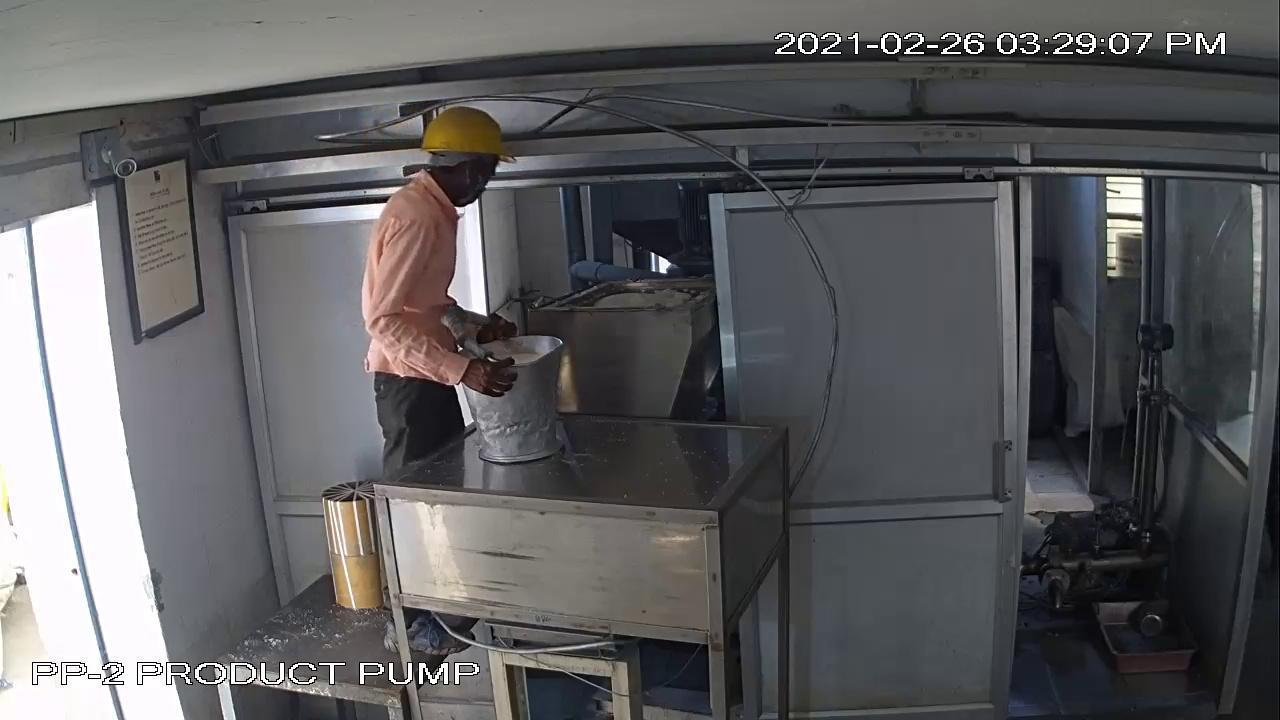helmet: (406, 102, 520, 170)
